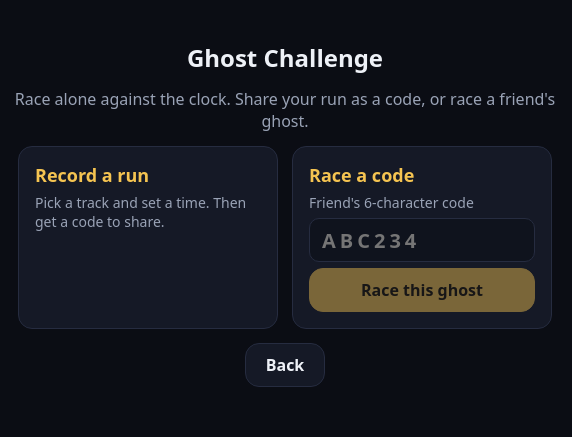
Test case: Race a code › says when no ghost has that code
This screenshot has width=572, height=437.
Type "ZZZZZZ" into the field with test id "ghost-code".
click(422, 240); type("ZZZZZZ")  # box [309, 218, 535, 262]
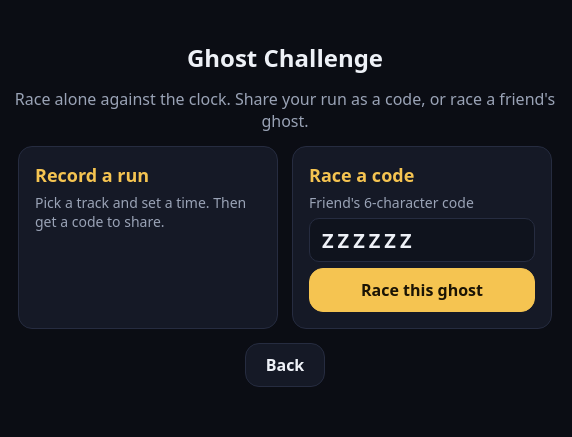
Click the button with test id "ghost-load".
click(422, 290)  # box [309, 268, 535, 312]
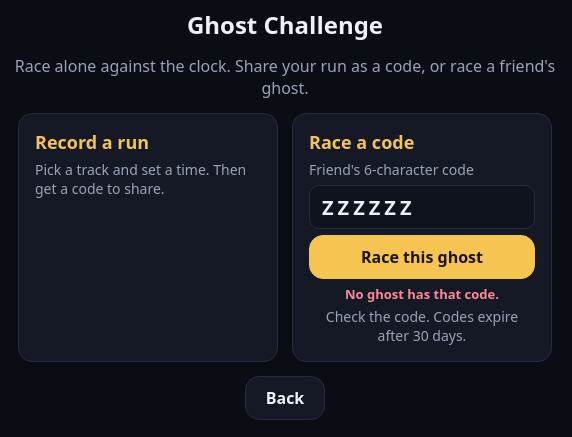
Expected: the message with test id "ghost-error" shows "No ghost has that code.", [345, 285, 499, 303]
